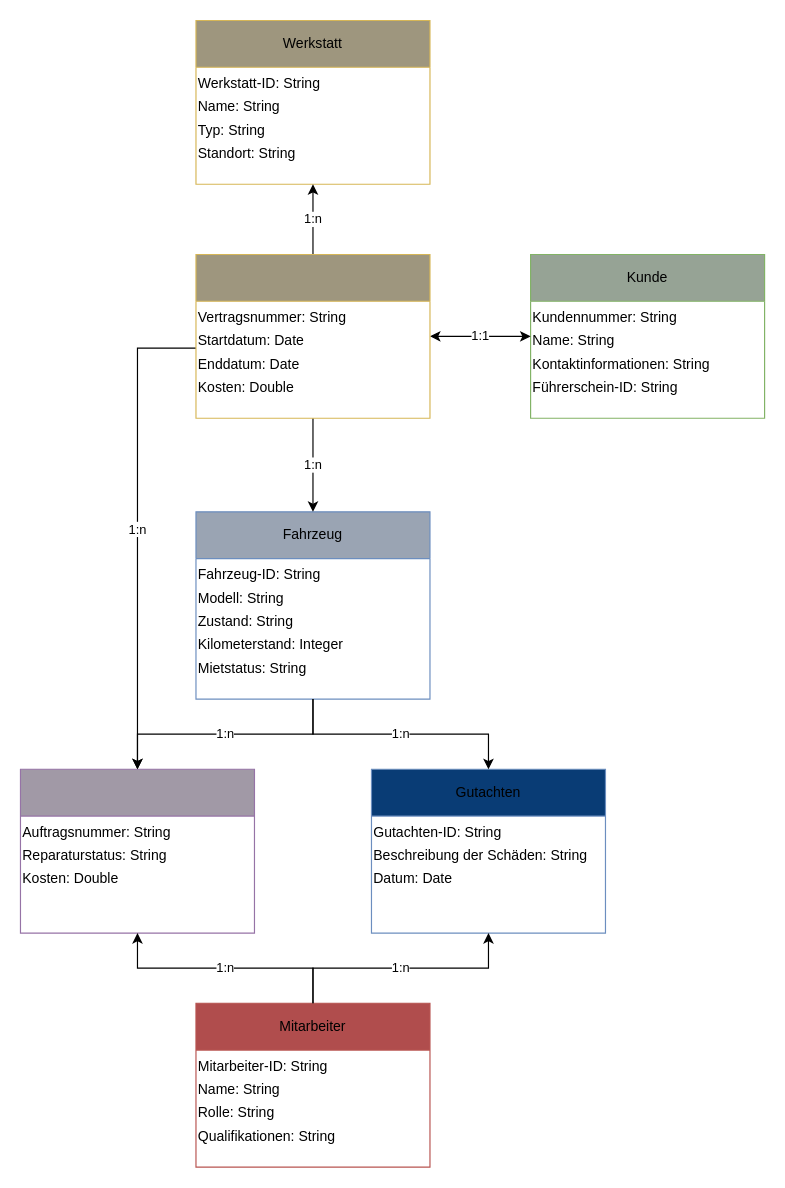
Some shapes in this 785 by 1188 pixel diagram are drawn without their labels. The box of each missing label's shape, as (x1, y1, x2, y2) in pixels:
Mietvertrag: (195, 253, 430, 418)
Reparaturauftrag: (19, 768, 254, 933)
